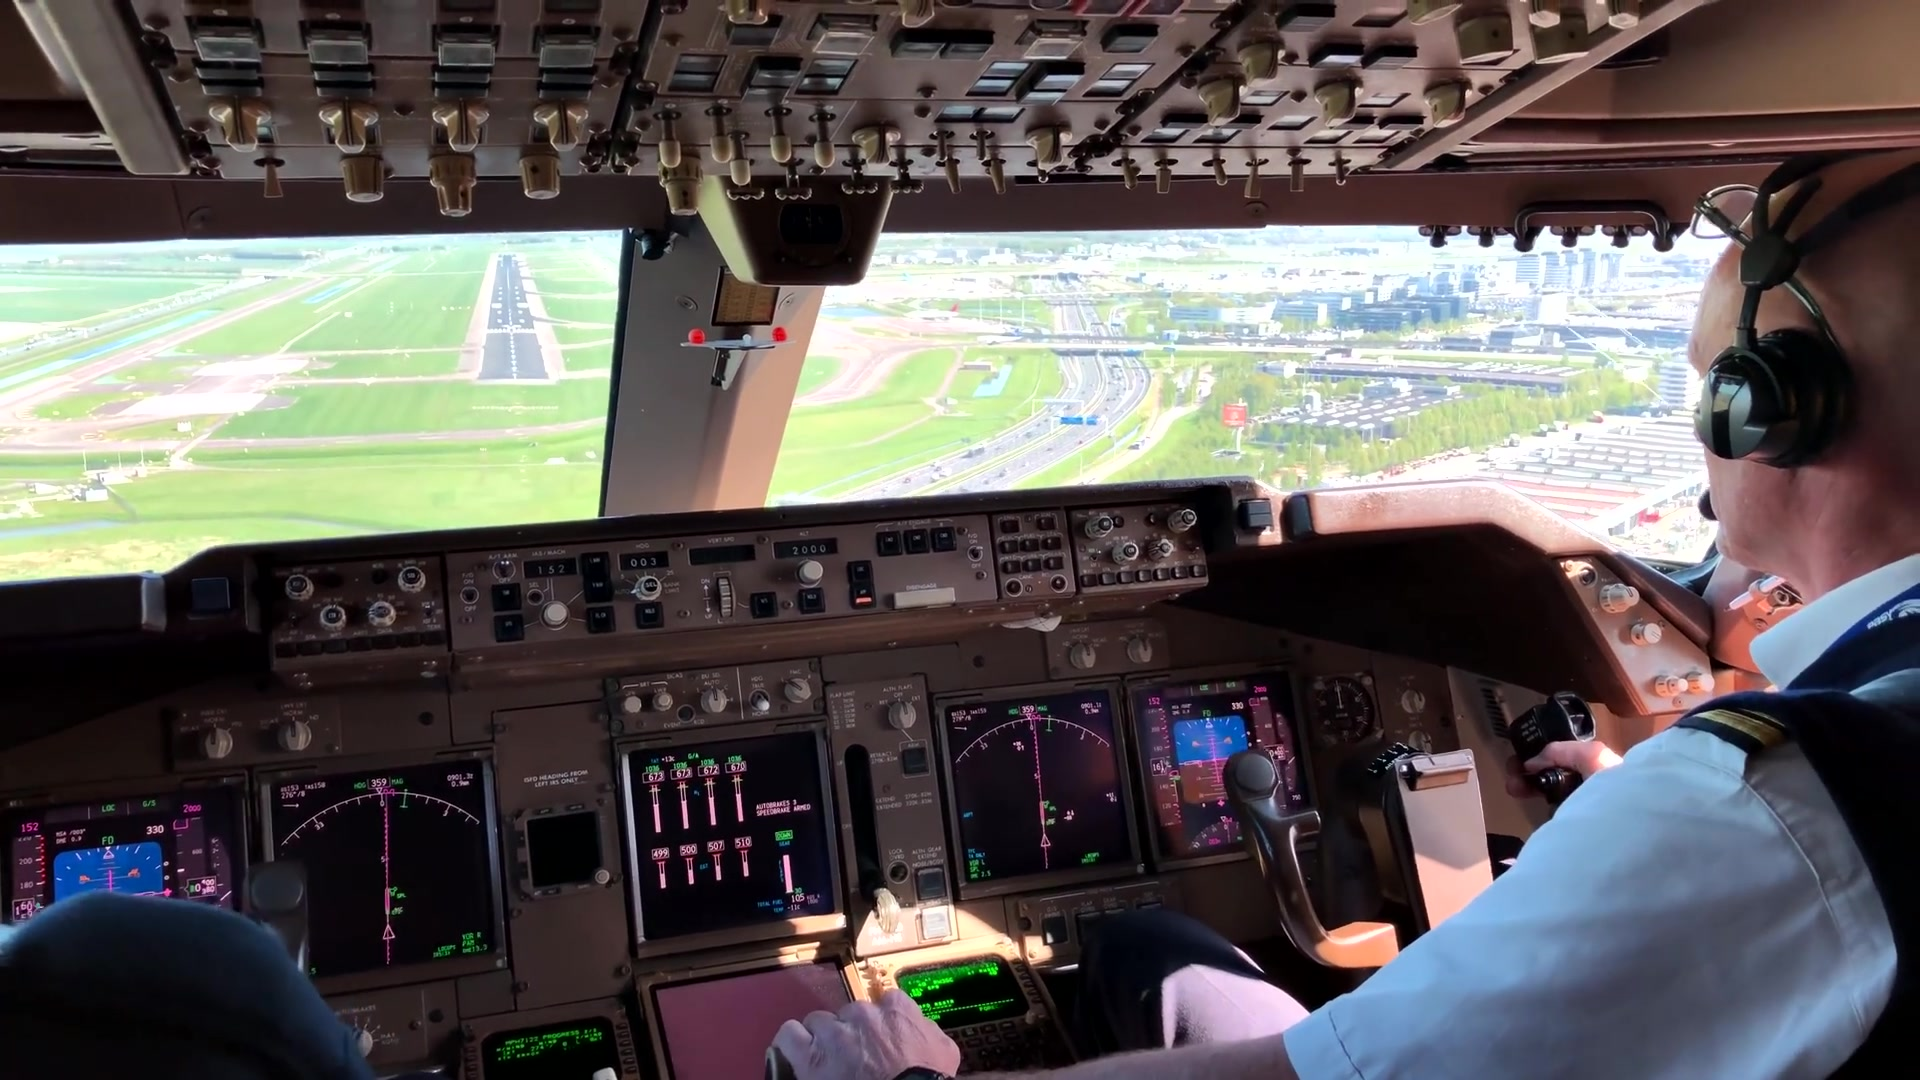runway: (471, 253, 547, 382)
